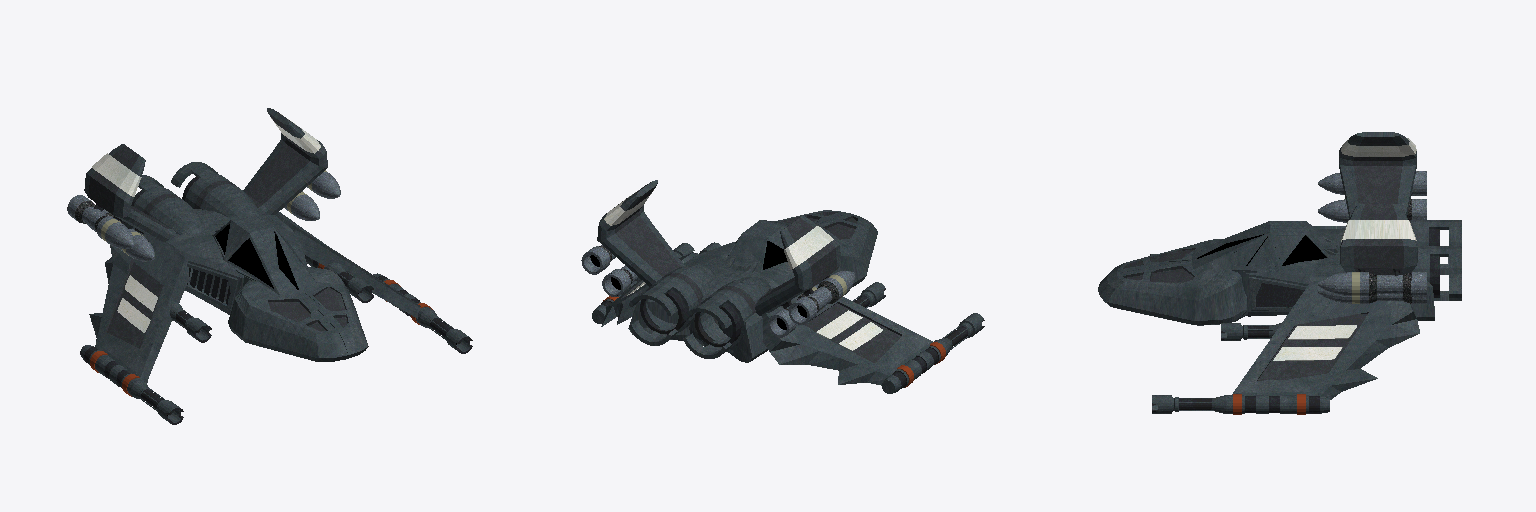
The picture shows the model from 3 angles: view 1: azimuth 30°, elevation 25°; view 2: azimuth 150°, elevation 25°; view 3: azimuth 270°, elevation 25°; orthographic projection.
Parts seen in each view (by area): view 1: ship; view 2: ship; view 3: ship.
Boxes of the visible parts, x1,y1,x2,y2 form: ship: [67, 108, 472, 424]; ship: [581, 180, 984, 393]; ship: [1098, 132, 1461, 414].
Size of the model in its own units: 161 by 87.47 by 165.
10 materials, 6 textured.